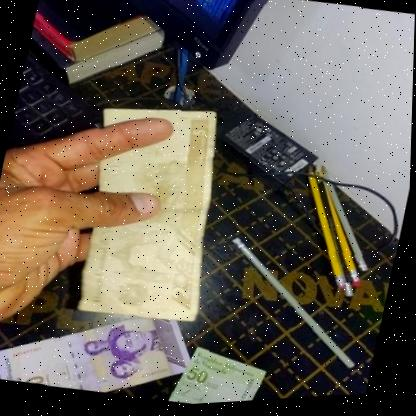fifty-front-vef: (168, 342, 272, 408)
five-back-vef: (63, 92, 239, 332)
two_hundred-front-vef: (0, 291, 200, 412)
